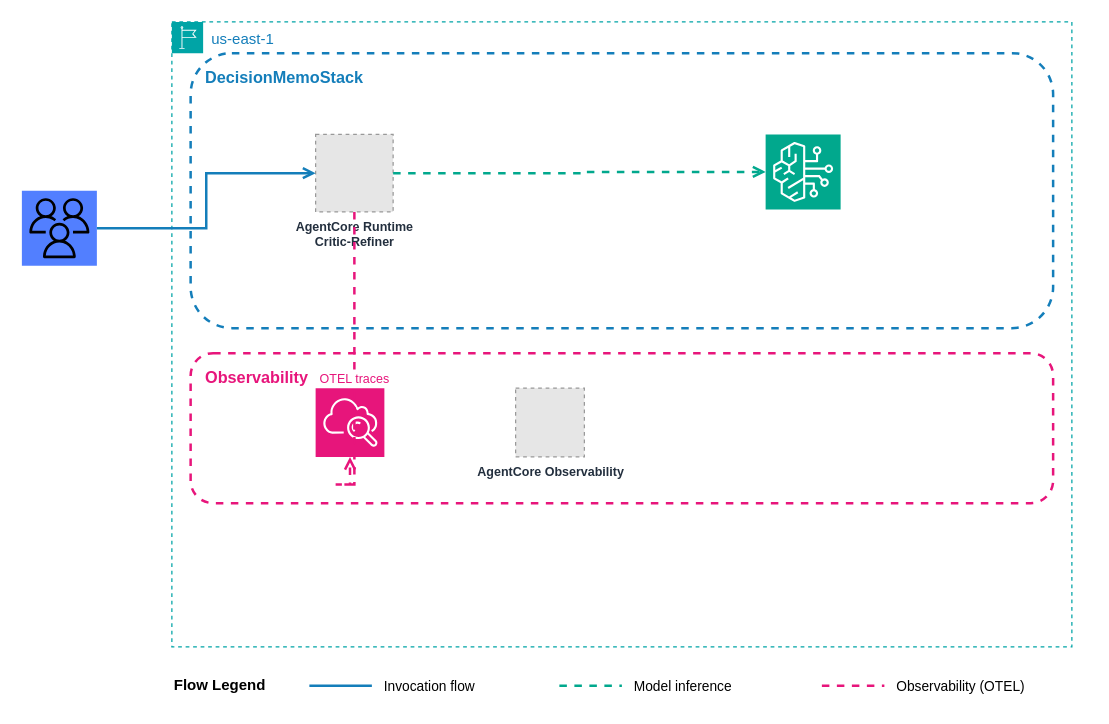
Image size: 1109x724. Some labels were removed from this diagram. Grey dashed boxes stand in for pictures. Here are the shapes that lost their labels. From the top down, the centre of each, then its label:
the point at 802,171: Amazon Bedrock
the point at 58,227: User
the point at 349,422: Amazon CloudWatch
